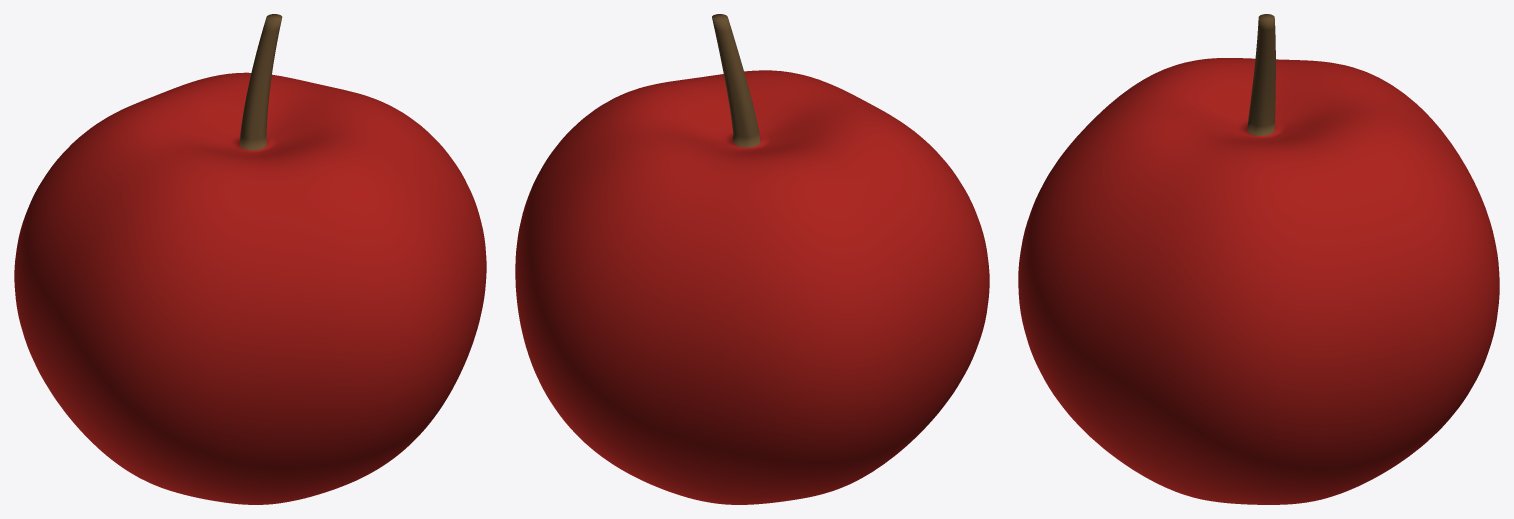
The model's file is A-NEW-20261027-APPLE-001_LOD0_R1.glb.
3 renders of one model, left to right at view 1: azimuth 30°, elevation 25°; view 2: azimuth 150°, elevation 25°; view 3: azimuth 270°, elevation 25°, orthographic. The views are drawn at different scales.
Parts seen in each view (by area): view 1: continuous original apple body dimple and stem; view 2: continuous original apple body dimple and stem; view 3: continuous original apple body dimple and stem.
Boxes of the visible parts, left/top/right/bottom form: continuous original apple body dimple and stem: left=14, top=14, right=486, bottom=504; continuous original apple body dimple and stem: left=515, top=14, right=989, bottom=504; continuous original apple body dimple and stem: left=1018, top=14, right=1499, bottom=504.
Size of the model in its own units: 0.0862 by 0.0888 by 0.084.
